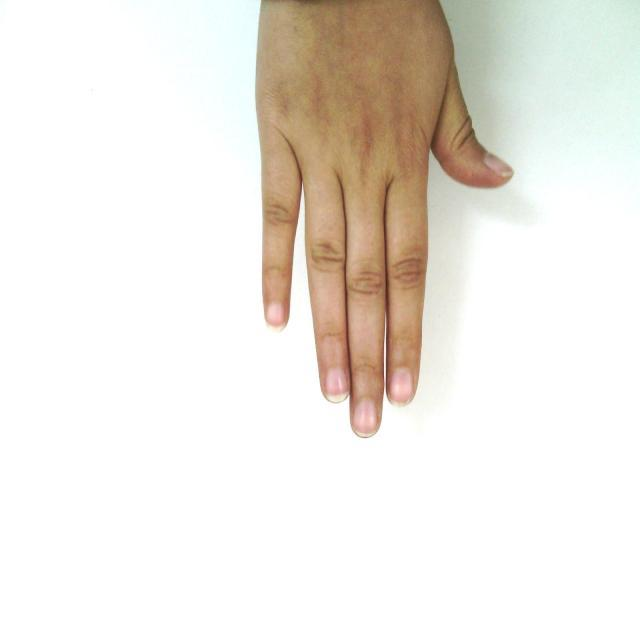Fingernail: (354, 399, 378, 436), (390, 370, 413, 405), (325, 370, 346, 402), (485, 153, 512, 175), (267, 303, 284, 328)
